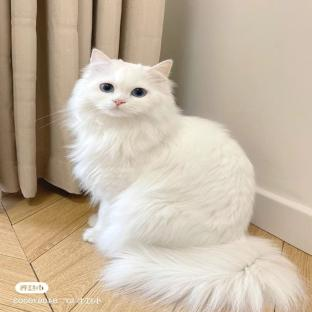Animal: (66, 49, 305, 312)
